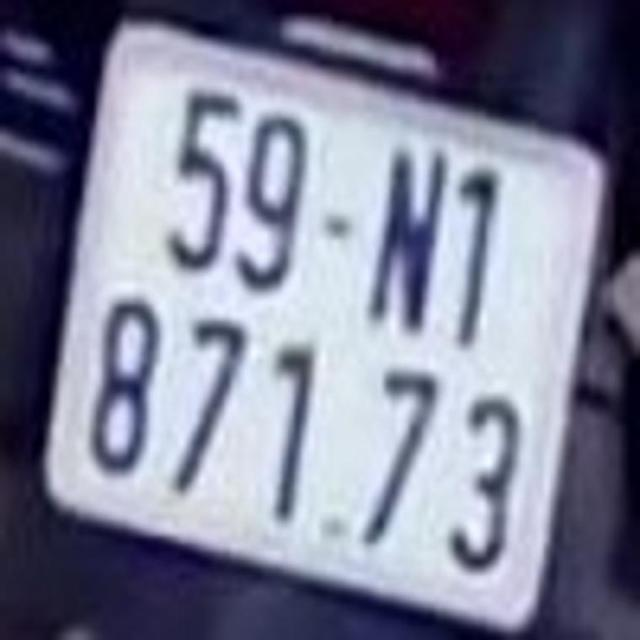1: (454, 164, 500, 348), (268, 340, 314, 524)
3: (449, 392, 519, 574)
5: (164, 85, 237, 273)
7: (360, 366, 439, 552), (174, 313, 247, 498)
8: (88, 294, 158, 475)
9: (238, 112, 306, 293)
N: (372, 144, 446, 331)
